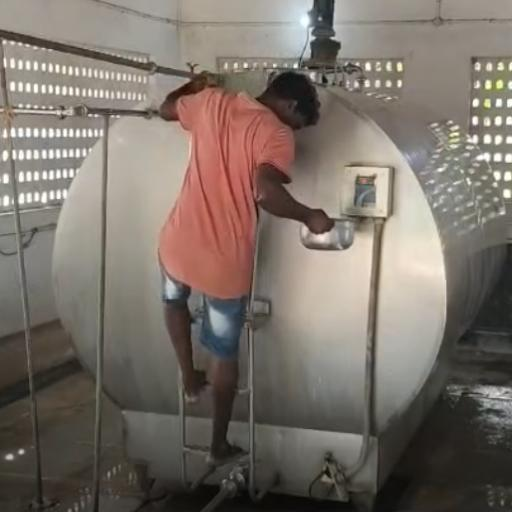vessel: (47, 63, 507, 502), (299, 218, 356, 252)
